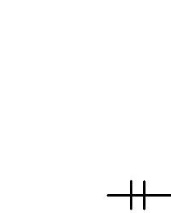115_buffer: (130, 180, 146, 210)
